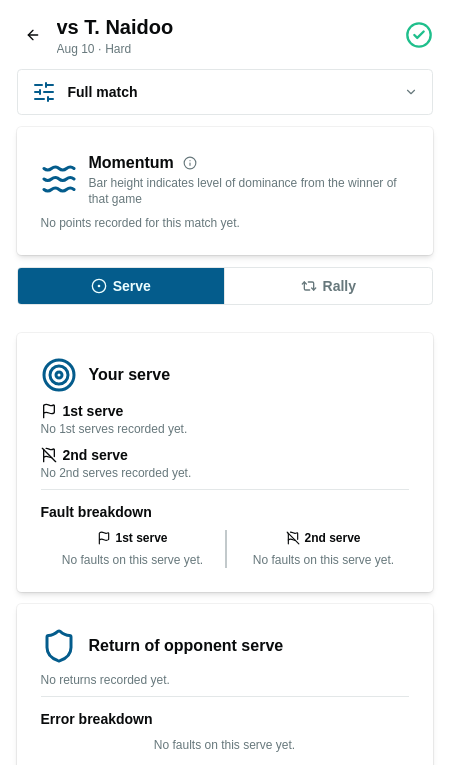
Test: switches to Rally when its toggle is clicked
Expected: the heading "vs T. Naidoo" is shown, [56, 16, 173, 38]
Expected: the text "Your serve" is shown, [88, 363, 170, 387]
Click the button "Rally". click: (328, 286)
box: [224, 268, 432, 304]
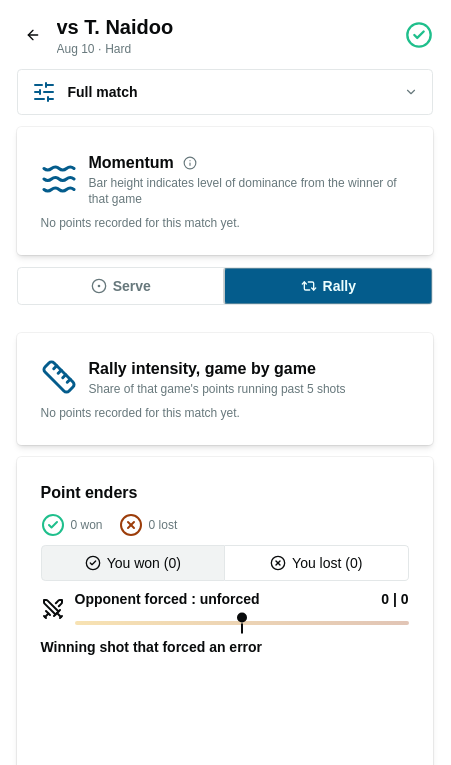
Expected: the heading "Point enders" is shown, [40, 484, 137, 501]
